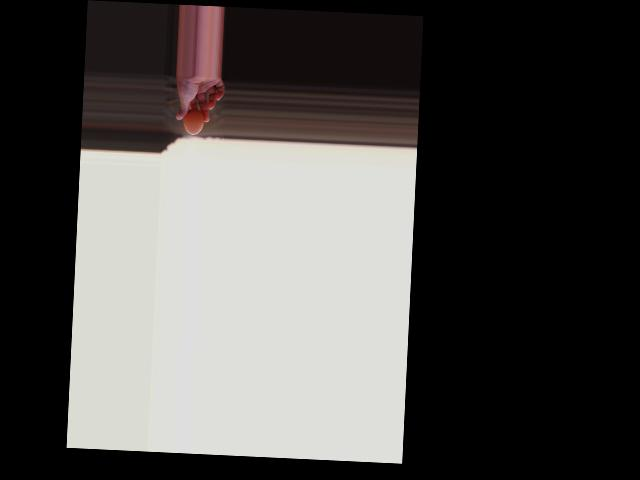egg: (183, 109, 204, 135)
